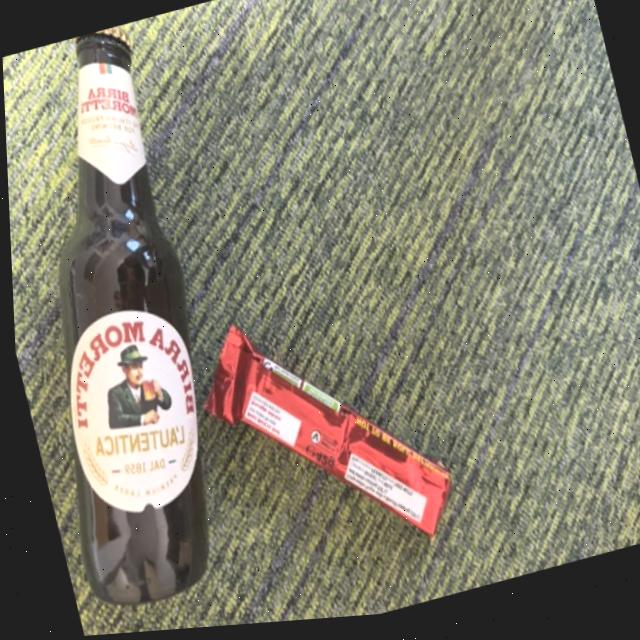beer: (1, 18, 255, 628)
chocolate: (181, 276, 467, 605)
